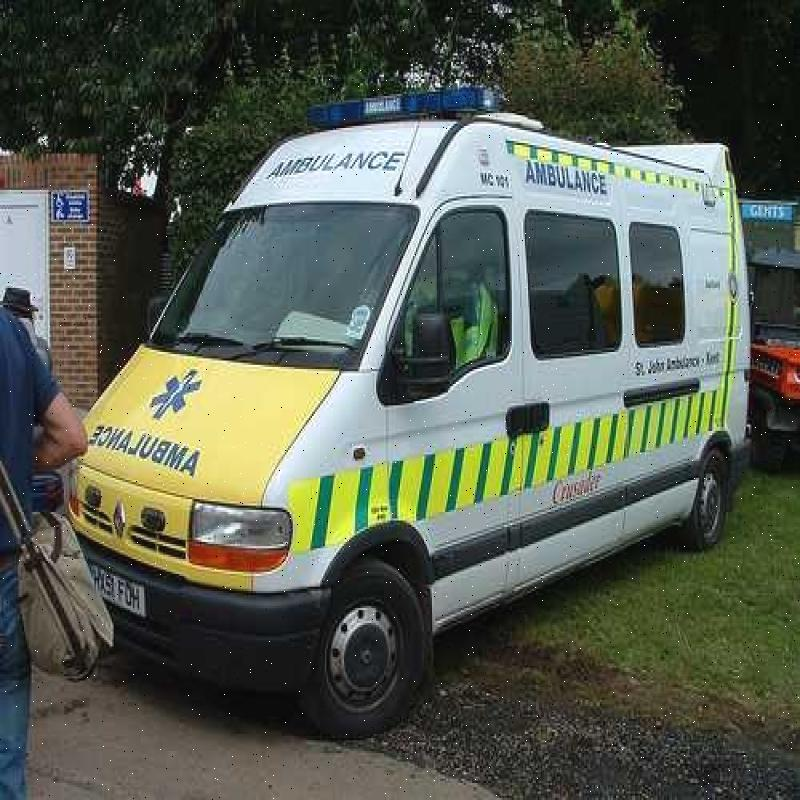AmbulanceSiren: (306, 77, 503, 146)
